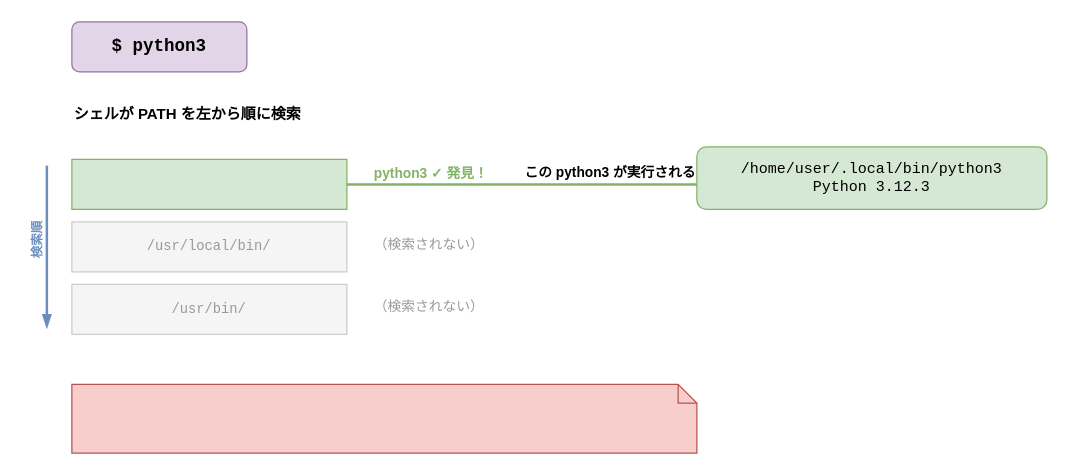
Image size: 1069x475. Some labels were removed from this diagram. The box of each missing label's shape, as (x1, y1, x2, y2) in pixels:
/home/user/.local/bin/: (71, 158, 347, 209)
⚠ PATH の順序が重要: 同名のコマンドが複数ディレクトリにある場合、 先に見つかった方が実行される（意図しないバージョンが動く原因）: (71, 383, 697, 453)
